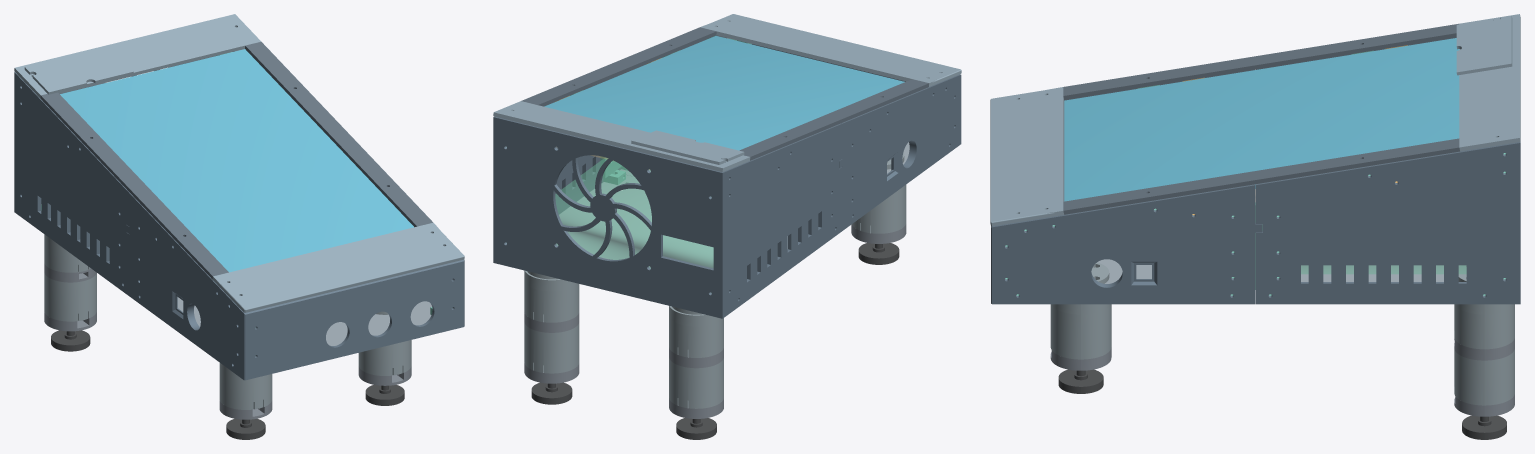
File: cabinet.glb
3 views of the same model, side by side, from view 1: azimuth 30°, elevation 25°; view 2: azimuth 150°, elevation 25°; view 3: azimuth 270°, elevation 25° (orthographic). The views are drawn at different scales.
Parts seen in each view (by area): view 1: REFERENCE_Monitor, left_rear_wall, front_button_panel, left_front_wall, front_cable_lid, rear_control_deck, bezel_right_a1_a2, bezel_left_one_piece, control_hatch, foot_m8_terminal_sleeve_left_rear_55mm, foot_m8_terminal_sleeve_left_front_55mm, foot_m8_terminal_sleeve_right_front_55mm (+9 smaller); view 2: rear_vent_panel, REFERENCE_Monitor, left_rear_wall, left_front_wall, front_cable_lid, REFERENCE_Dell_3050, bottom_rear, rear_control_deck, bezel_right_a1_a2, bezel_left_one_piece, foot_m8_terminal_sleeve_right_rear_55mm, foot_m8_terminal_sleeve_left_rear_55mm (+15 smaller); view 3: REFERENCE_Monitor, right_rear_wall, right_front_wall, front_cable_lid, bezel_right_a1_a2, bezel_left_one_piece, rear_control_deck, control_hatch, foot_m8_terminal_sleeve_right_front_55mm, foot_m8_terminal_sleeve_right_rear_55mm, foot_lock_sleeve_right_rear_1_45mm, bottom_rear (+7 smaller).
Part boxes in pixels (x1,y1,x2,y2): REFERENCE_Monitor: (60, 49, 413, 272); left_rear_wall: (14, 72, 129, 295); front_button_panel: (247, 260, 461, 379); left_front_wall: (126, 193, 247, 380); front_cable_lid: (212, 222, 464, 312); rear_control_deck: (14, 14, 260, 98); bezel_right_a1_a2: (245, 41, 432, 227); bezel_left_one_piece: (40, 92, 228, 279); control_hatch: (24, 46, 133, 94); foot_m8_terminal_sleeve_left_rear_55mm: (44, 273, 96, 321); foot_m8_terminal_sleeve_left_front_55mm: (219, 363, 272, 409); foot_m8_terminal_sleeve_right_front_55mm: (358, 340, 411, 375); rear_vent_panel: (496, 117, 719, 317); REFERENCE_Monitor: (544, 36, 904, 150); left_rear_wall: (719, 123, 842, 318); left_front_wall: (839, 74, 961, 230); front_cable_lid: (700, 14, 961, 86); REFERENCE_Dell_3050: (555, 157, 713, 268); bottom_rear: (559, 175, 787, 268); rear_control_deck: (493, 101, 750, 171); bezel_right_a1_a2: (521, 27, 716, 106); bezel_left_one_piece: (739, 79, 929, 160); foot_m8_terminal_sleeve_right_rear_55mm: (524, 322, 579, 373); foot_m8_terminal_sleeve_left_rear_55mm: (669, 358, 723, 408); REFERENCE_Monitor: (1064, 38, 1459, 201); right_rear_wall: (1256, 142, 1520, 304); right_front_wall: (991, 184, 1262, 304); front_cable_lid: (990, 87, 1064, 226); bezel_right_a1_a2: (1063, 138, 1459, 214); bezel_left_one_piece: (1063, 23, 1458, 99); rear_control_deck: (1459, 14, 1520, 151); control_hatch: (1456, 16, 1512, 75); foot_m8_terminal_sleeve_right_front_55mm: (1050, 304, 1111, 359); foot_m8_terminal_sleeve_right_rear_55mm: (1454, 349, 1514, 405); foot_lock_sleeve_right_rear_1_45mm: (1454, 304, 1514, 349); bottom_rear: (1301, 265, 1460, 281).
Size of the model in its own units: 0.26 by 0.3106 by 0.4705.
